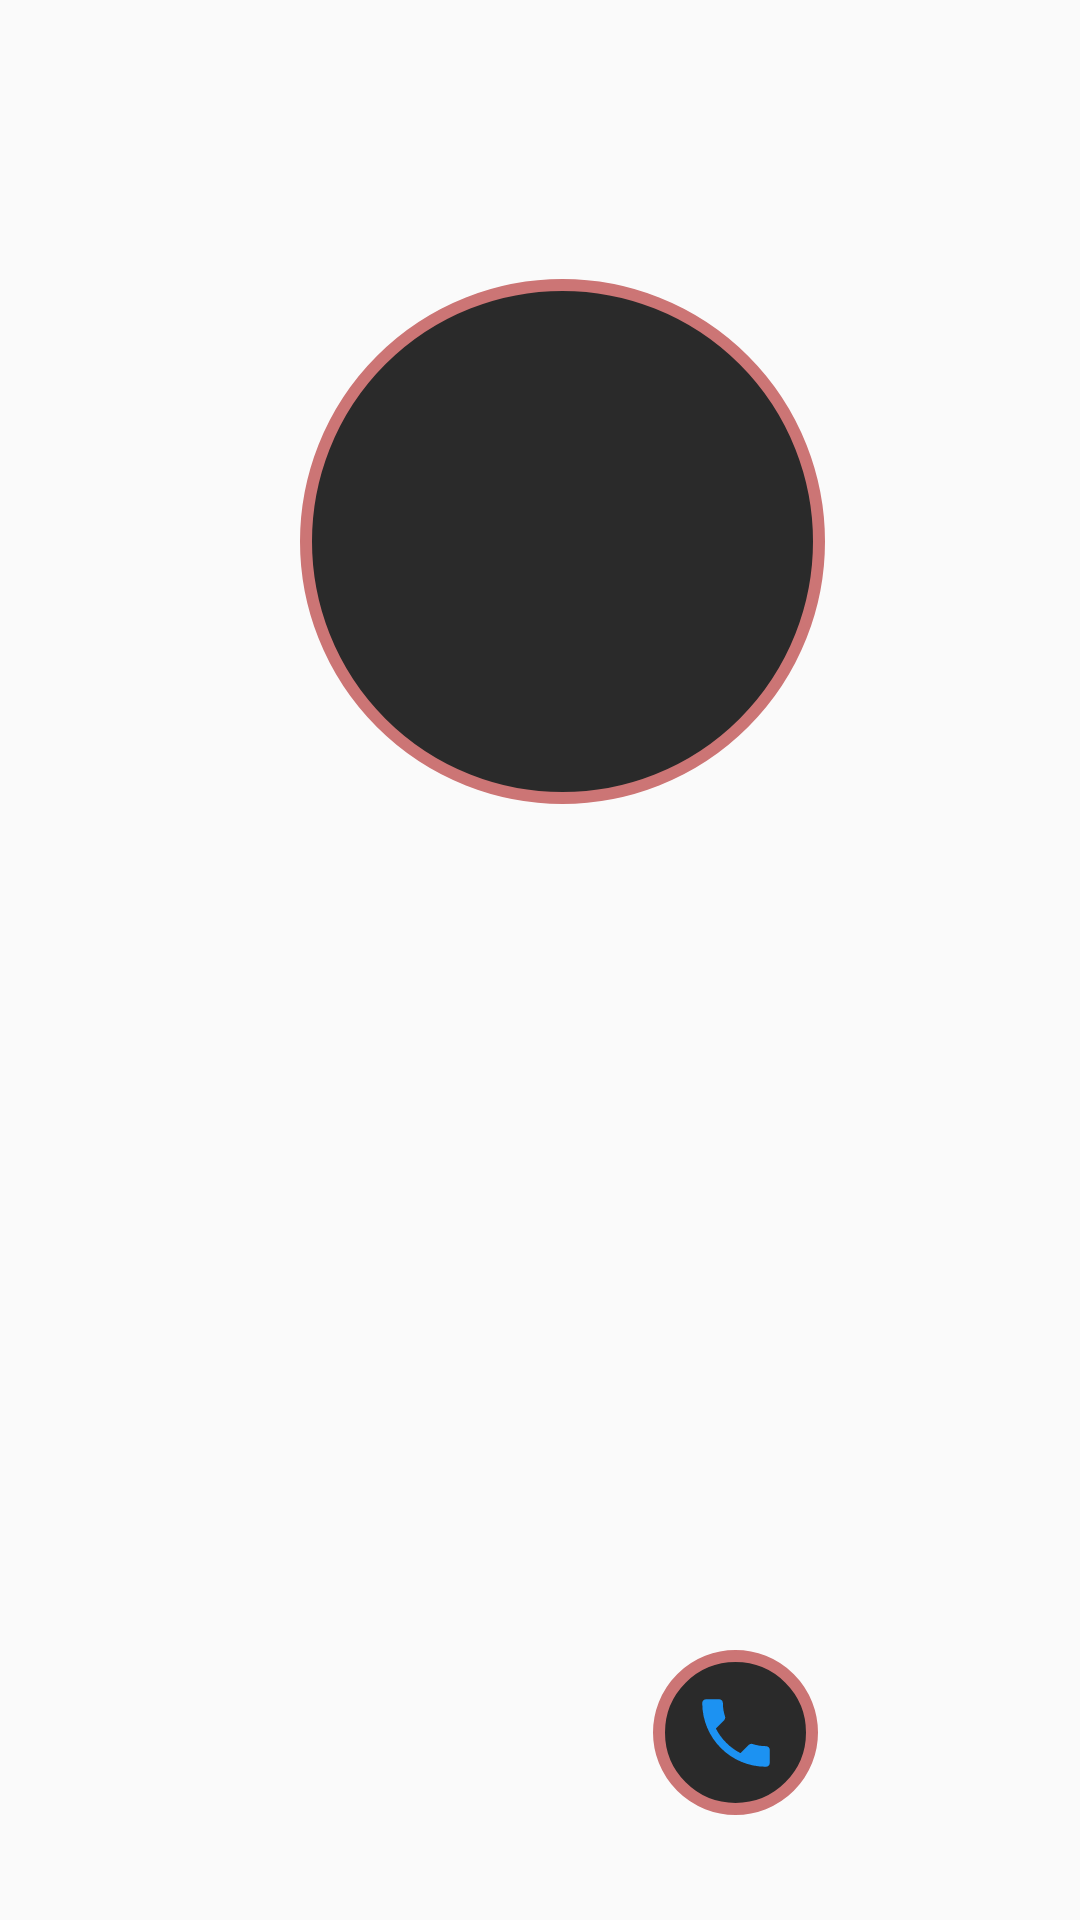

Icons on this 1080x1920 Android screen, each with the point to tap as (x=x, y=y):
call: (x=736, y=1733)
